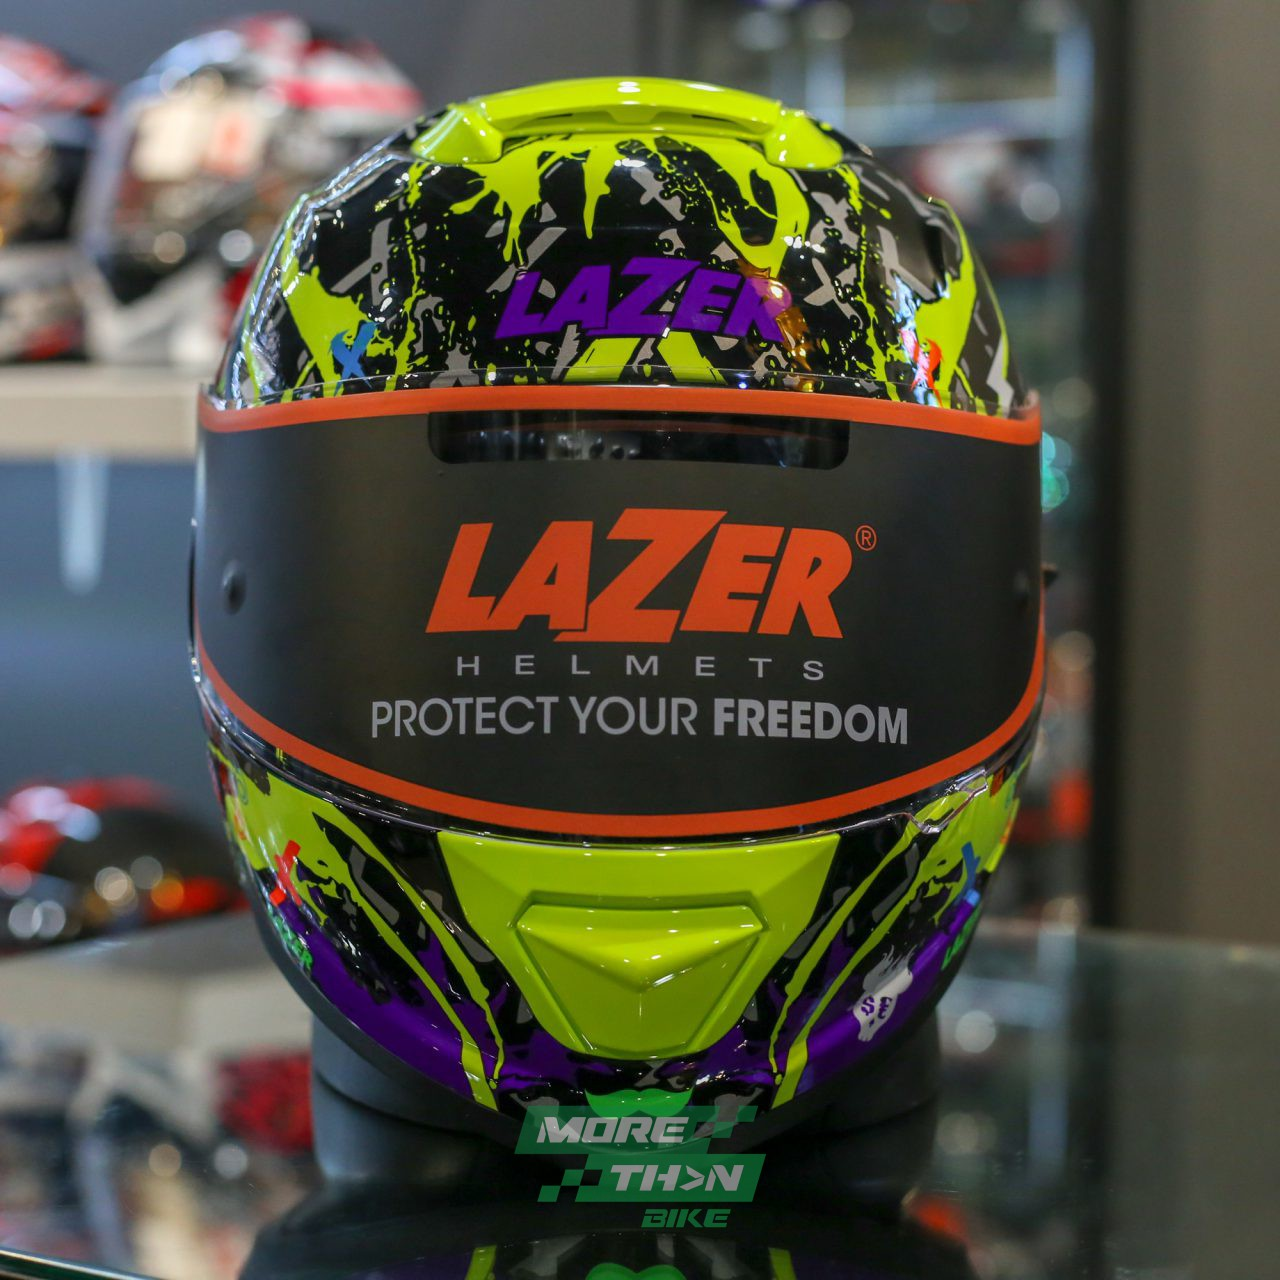helmet: (190, 75, 1047, 1139)
